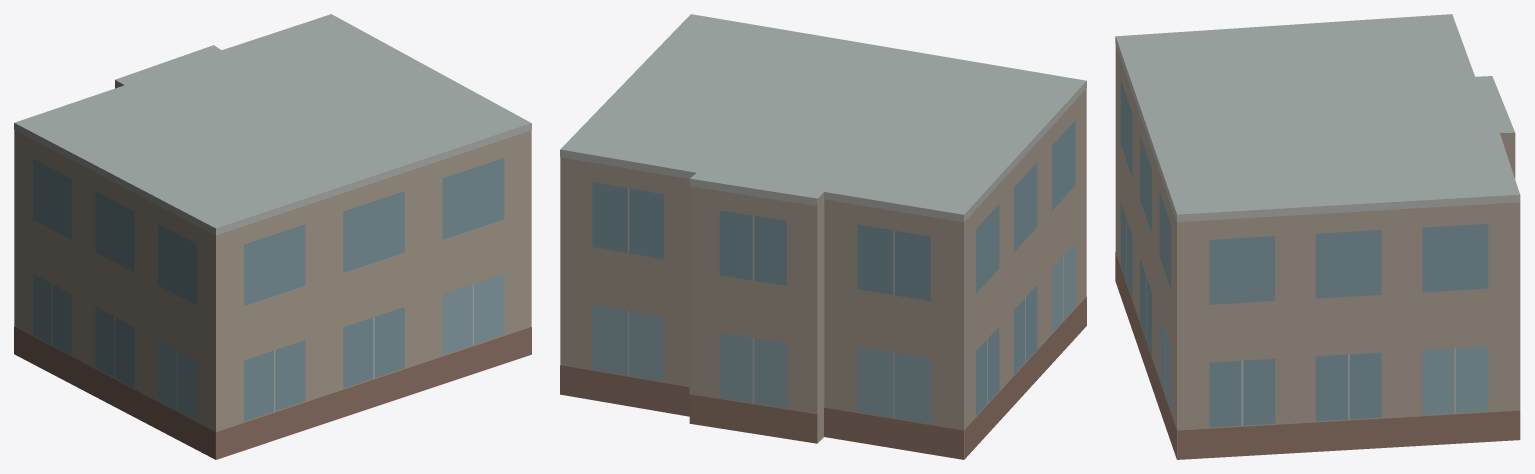
Rendered from survey-upis-32741403.glb.
3 views of the same model, side by side, from view 1: azimuth 30°, elevation 25°; view 2: azimuth 150°, elevation 25°; view 3: azimuth 270°, elevation 25° (orthographic). The views are drawn at different scales.
Visible parts, largest first — view 1: survey-upis-32741403.tmp; view 2: survey-upis-32741403.tmp; view 3: survey-upis-32741403.tmp.
Part boxes in pixels (x1,y1,x2,y2): survey-upis-32741403.tmp: (14, 14, 531, 459); survey-upis-32741403.tmp: (560, 14, 1086, 459); survey-upis-32741403.tmp: (1115, 14, 1520, 459).
Bounding box in the file's own units: 13.87 × 7.9 × 11.82.
